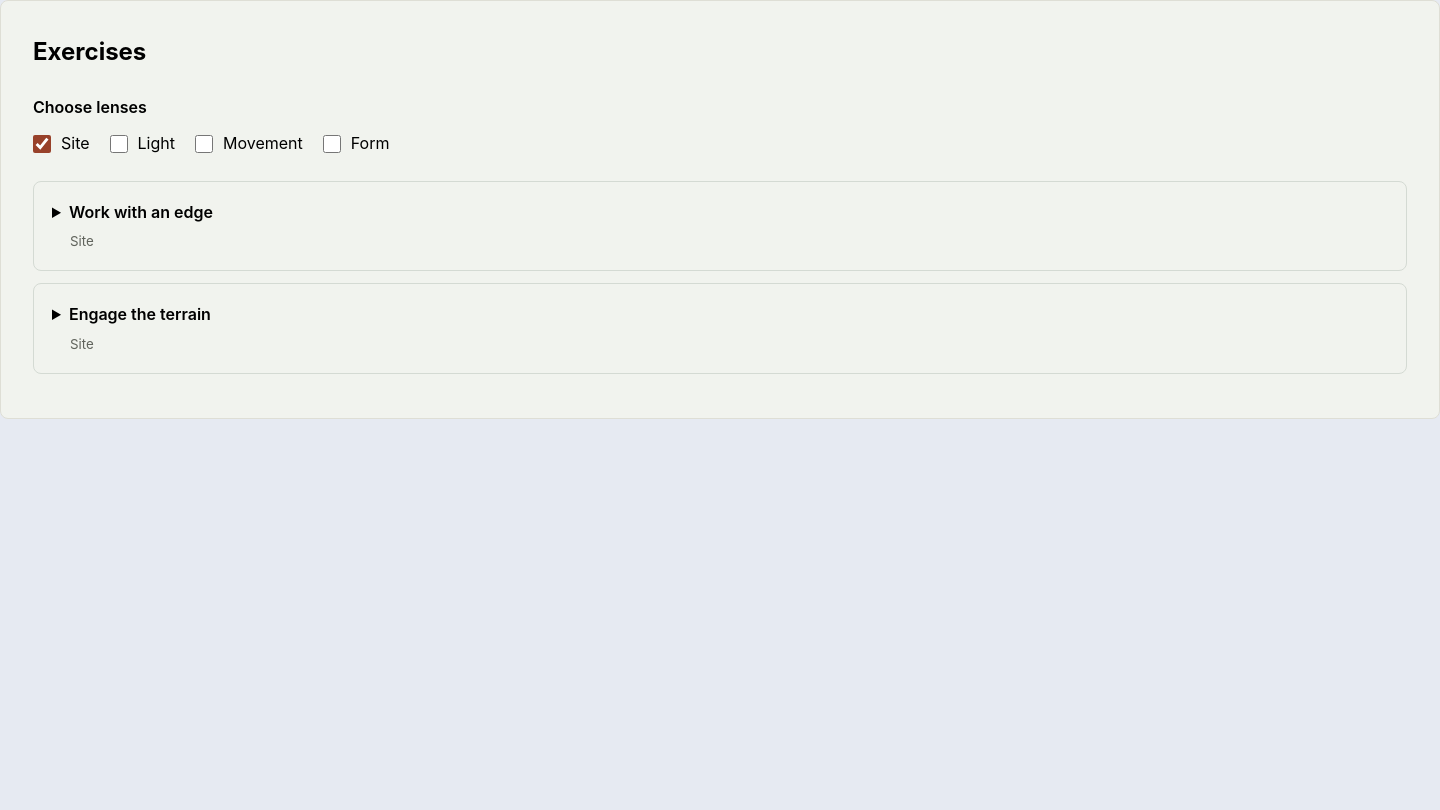
Test case: shows multiple lenses together and allows an empty selection
Check: the checkbox labelled "Movement" is shown, box [195, 135, 213, 153]
Click the checkbox labelled "Light": click(118, 144) [110, 135, 128, 153]
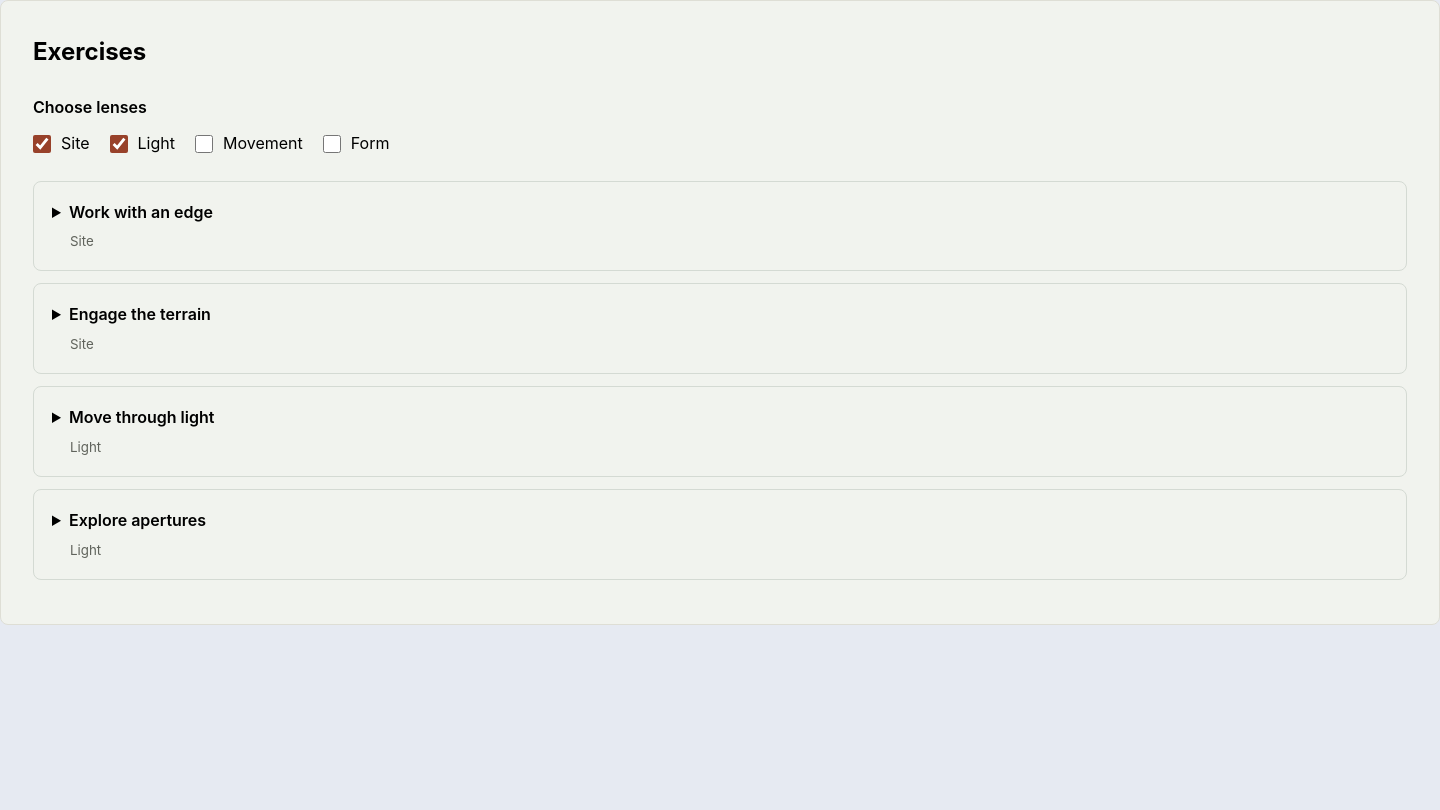
Check: the text "Work with an edge" is shown, box [69, 202, 213, 222]
Check: the text "Move through light" is shown, box [69, 407, 214, 427]
Click the checkbox labelled "Site": click(42, 144) [33, 135, 51, 153]
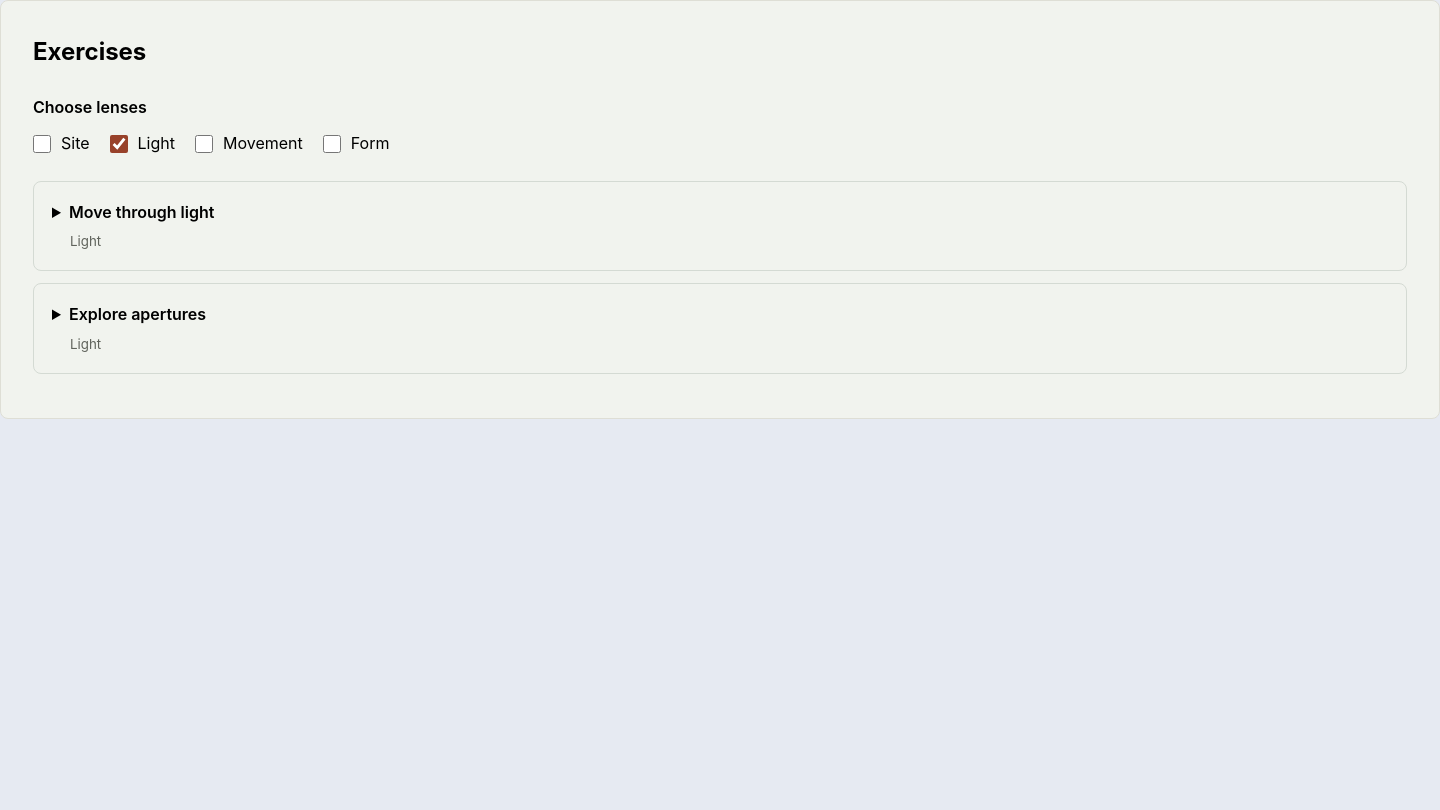
Check: the heading "Work with an edge" is gone
Click the checkbox labelled "Light": click(118, 144) [110, 135, 128, 153]
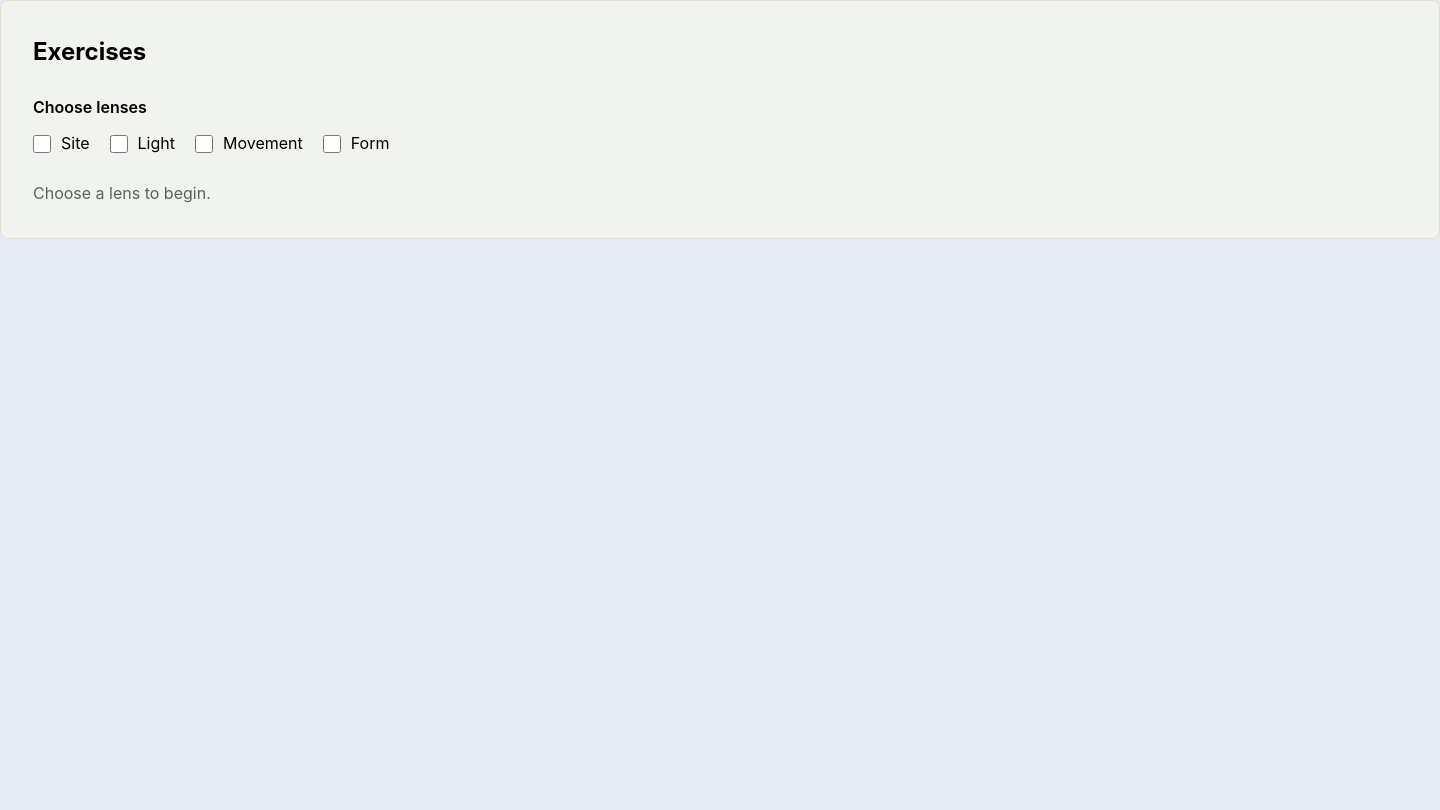
Check: the text "Choose a lens to begin." is shown, box [33, 183, 211, 203]
